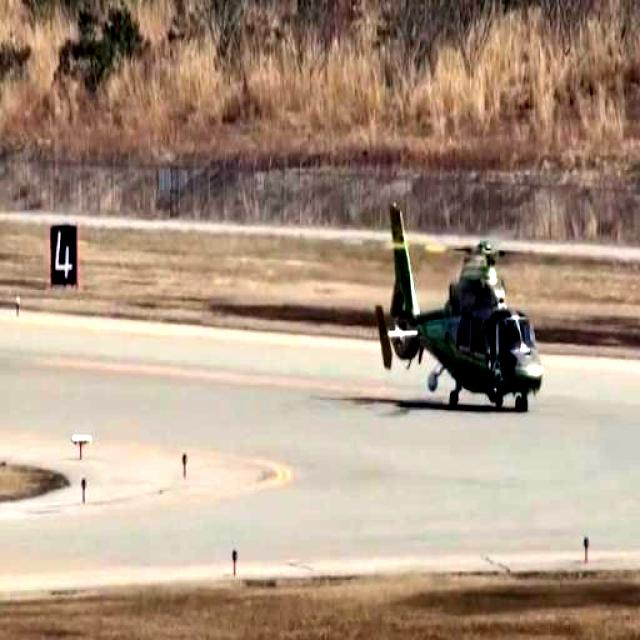drone: (370, 202, 546, 431)
